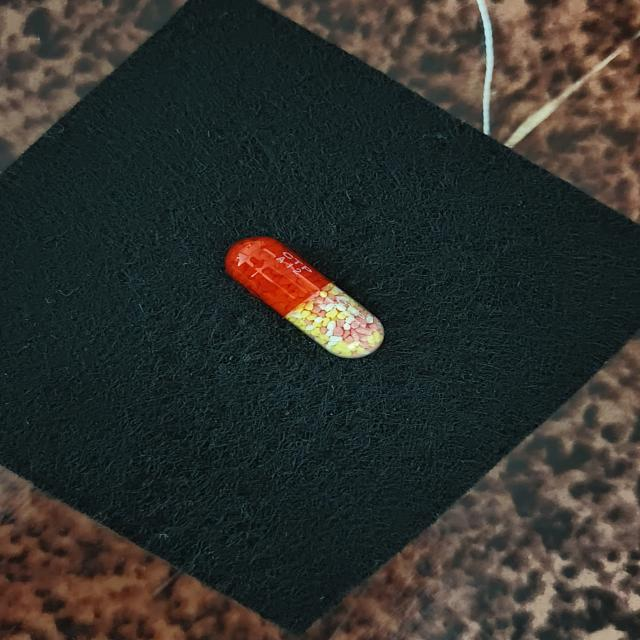Intact Capsule: (225, 236, 384, 358)
